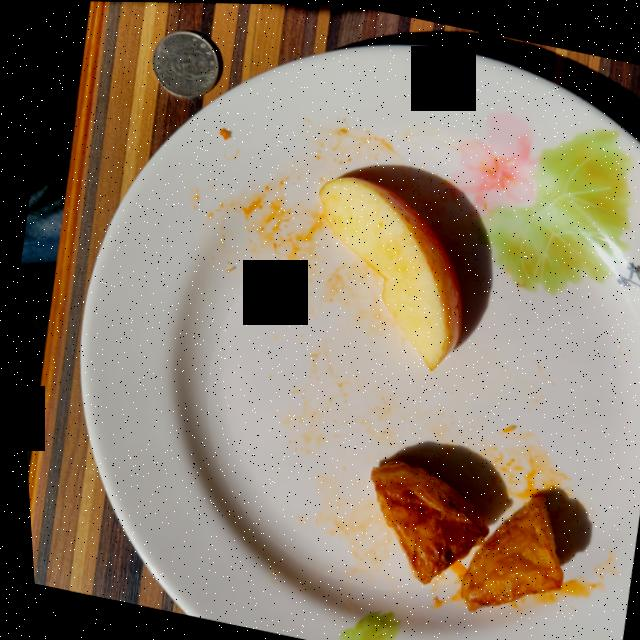apple -sliced-: (317, 176, 458, 368)
coin: (151, 30, 222, 98)
fried potato: (365, 460, 557, 610)
